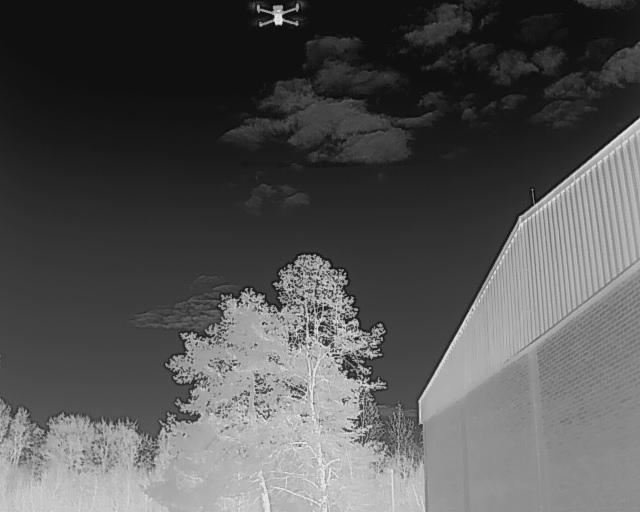drone: (248, 1, 314, 44)
